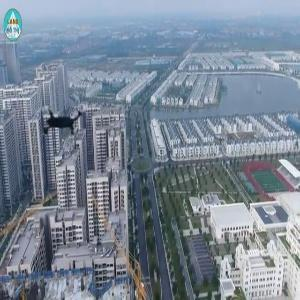drone: (29, 88, 94, 153)
